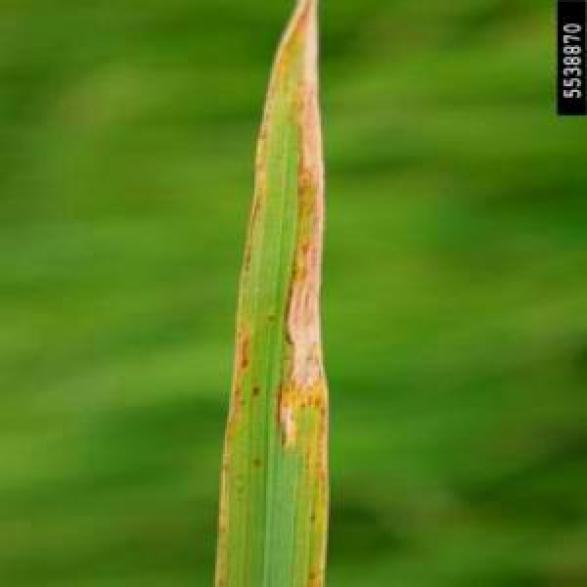Bacteria_Leaf_Blight: (208, 0, 337, 585)
